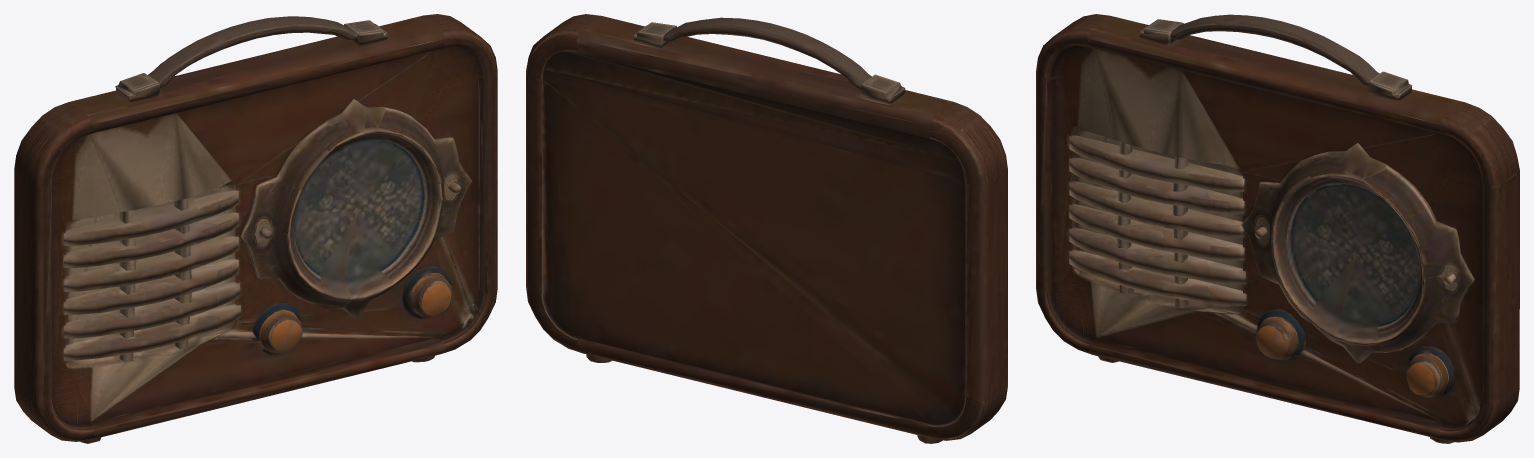
Rendered from radio_head.glb.
3 views of the same model, side by side, from view 1: azimuth 30°, elevation 25°; view 2: azimuth 150°, elevation 25°; view 3: azimuth 330°, elevation 25° (orthographic).
Bounding box in the file's own units: 0.9565 × 0.7358 × 0.1202.
Materials: 1 (1 with a texture image).
